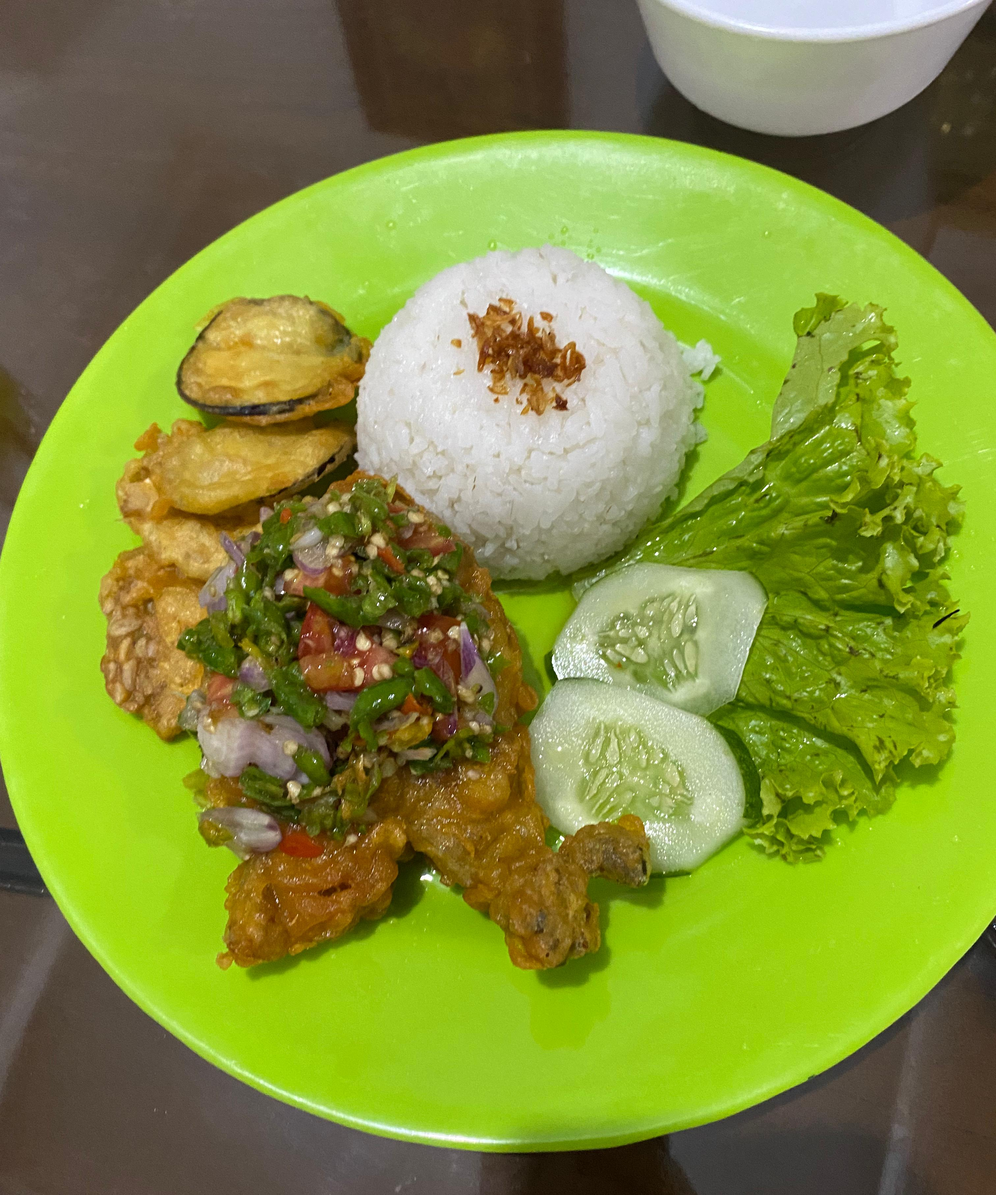buah_sayur_lainnya: (680, 325, 917, 847), (548, 575, 790, 827)
makanan_berpati: (392, 269, 675, 550)
